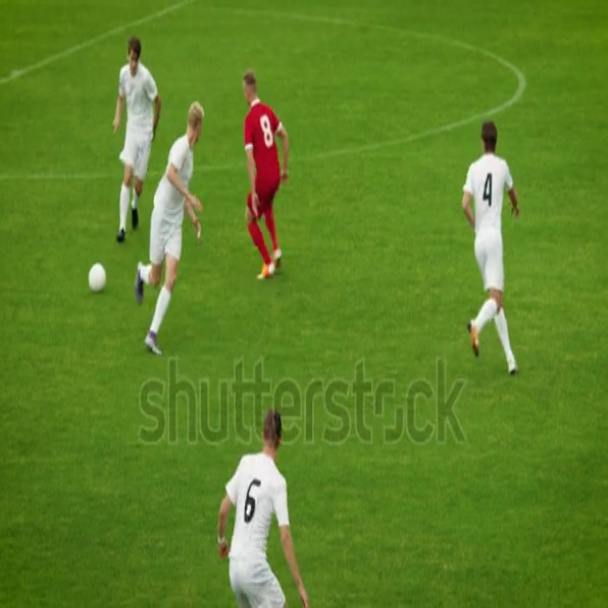ball: (90, 262, 108, 292)
